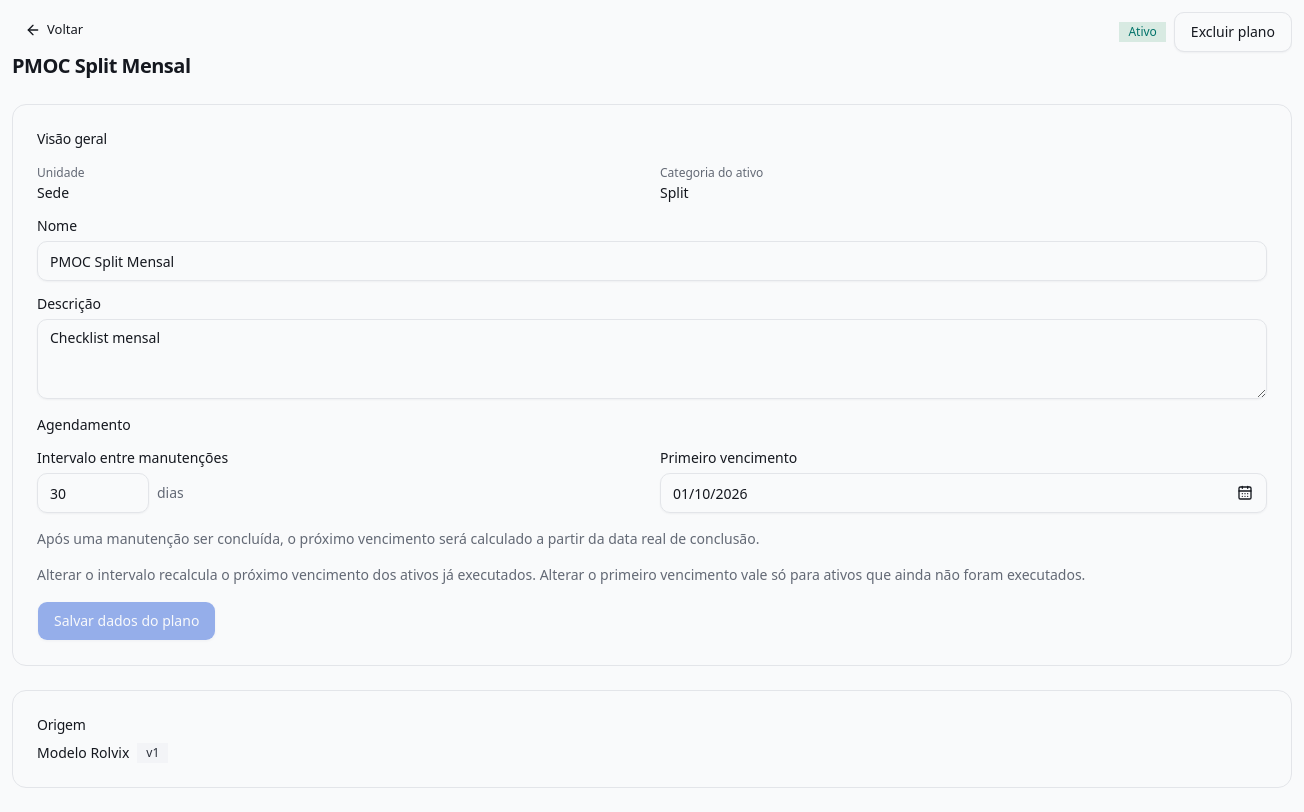
it: PmocPlanDetailPage › presents the invalid plan name only once
Clear the field labelled "Nome" at (652, 261), box [37,241,1267,281]
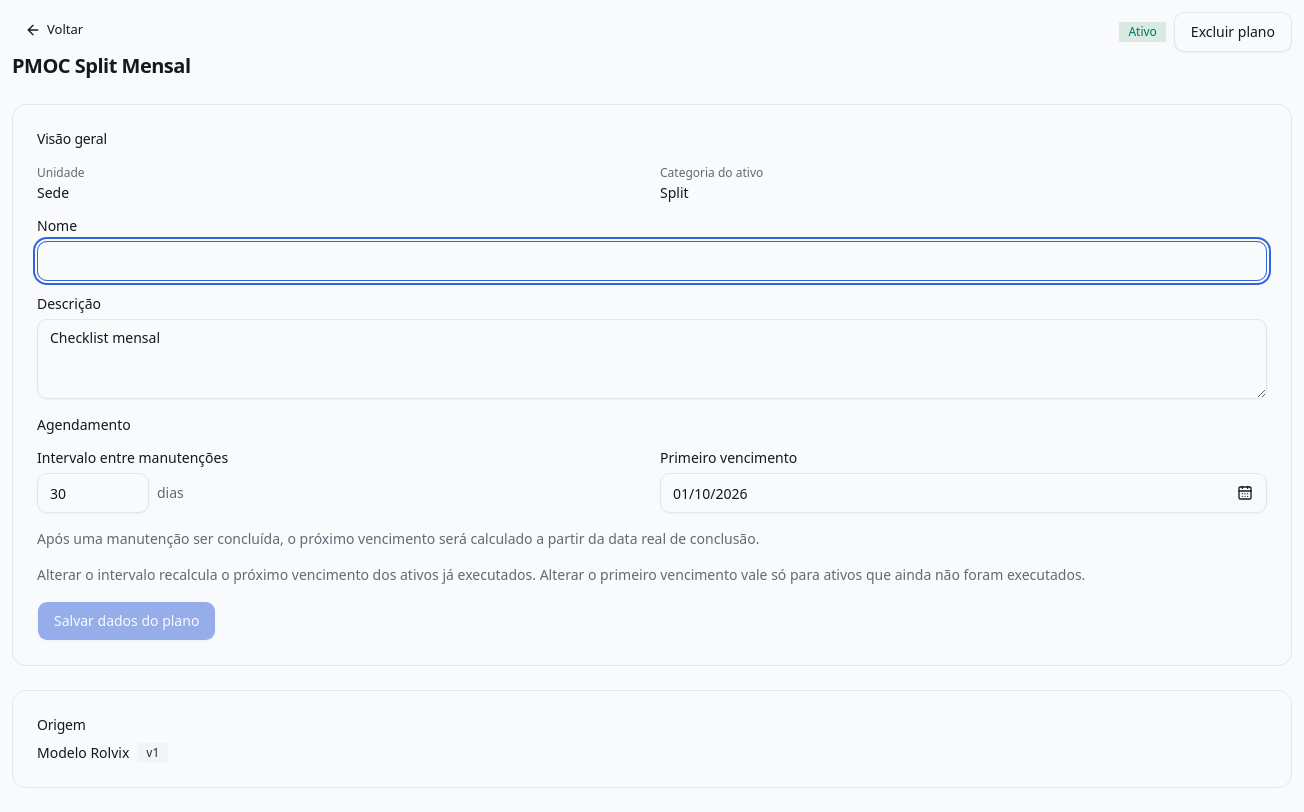
Press Tab
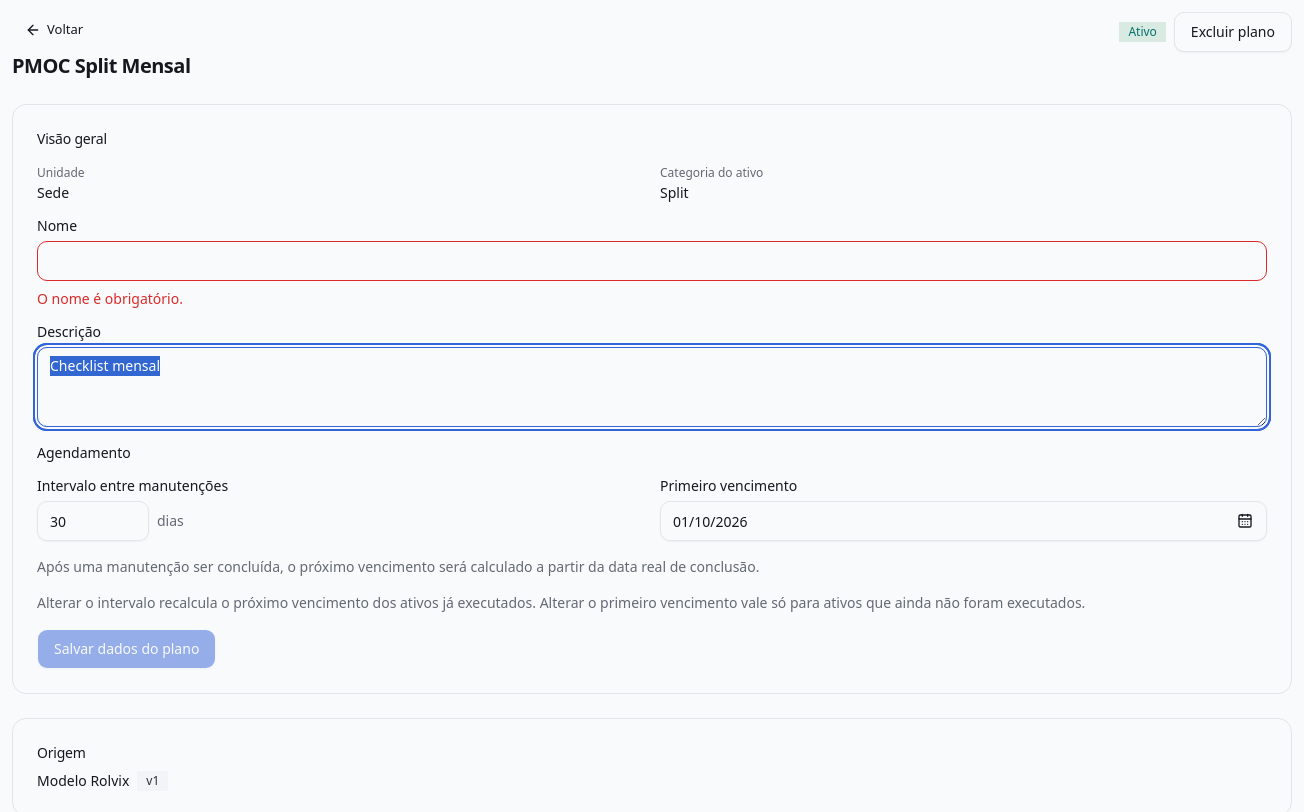
Check: the text "O nome é obrigatório." is shown once, box [37,289,183,308]
